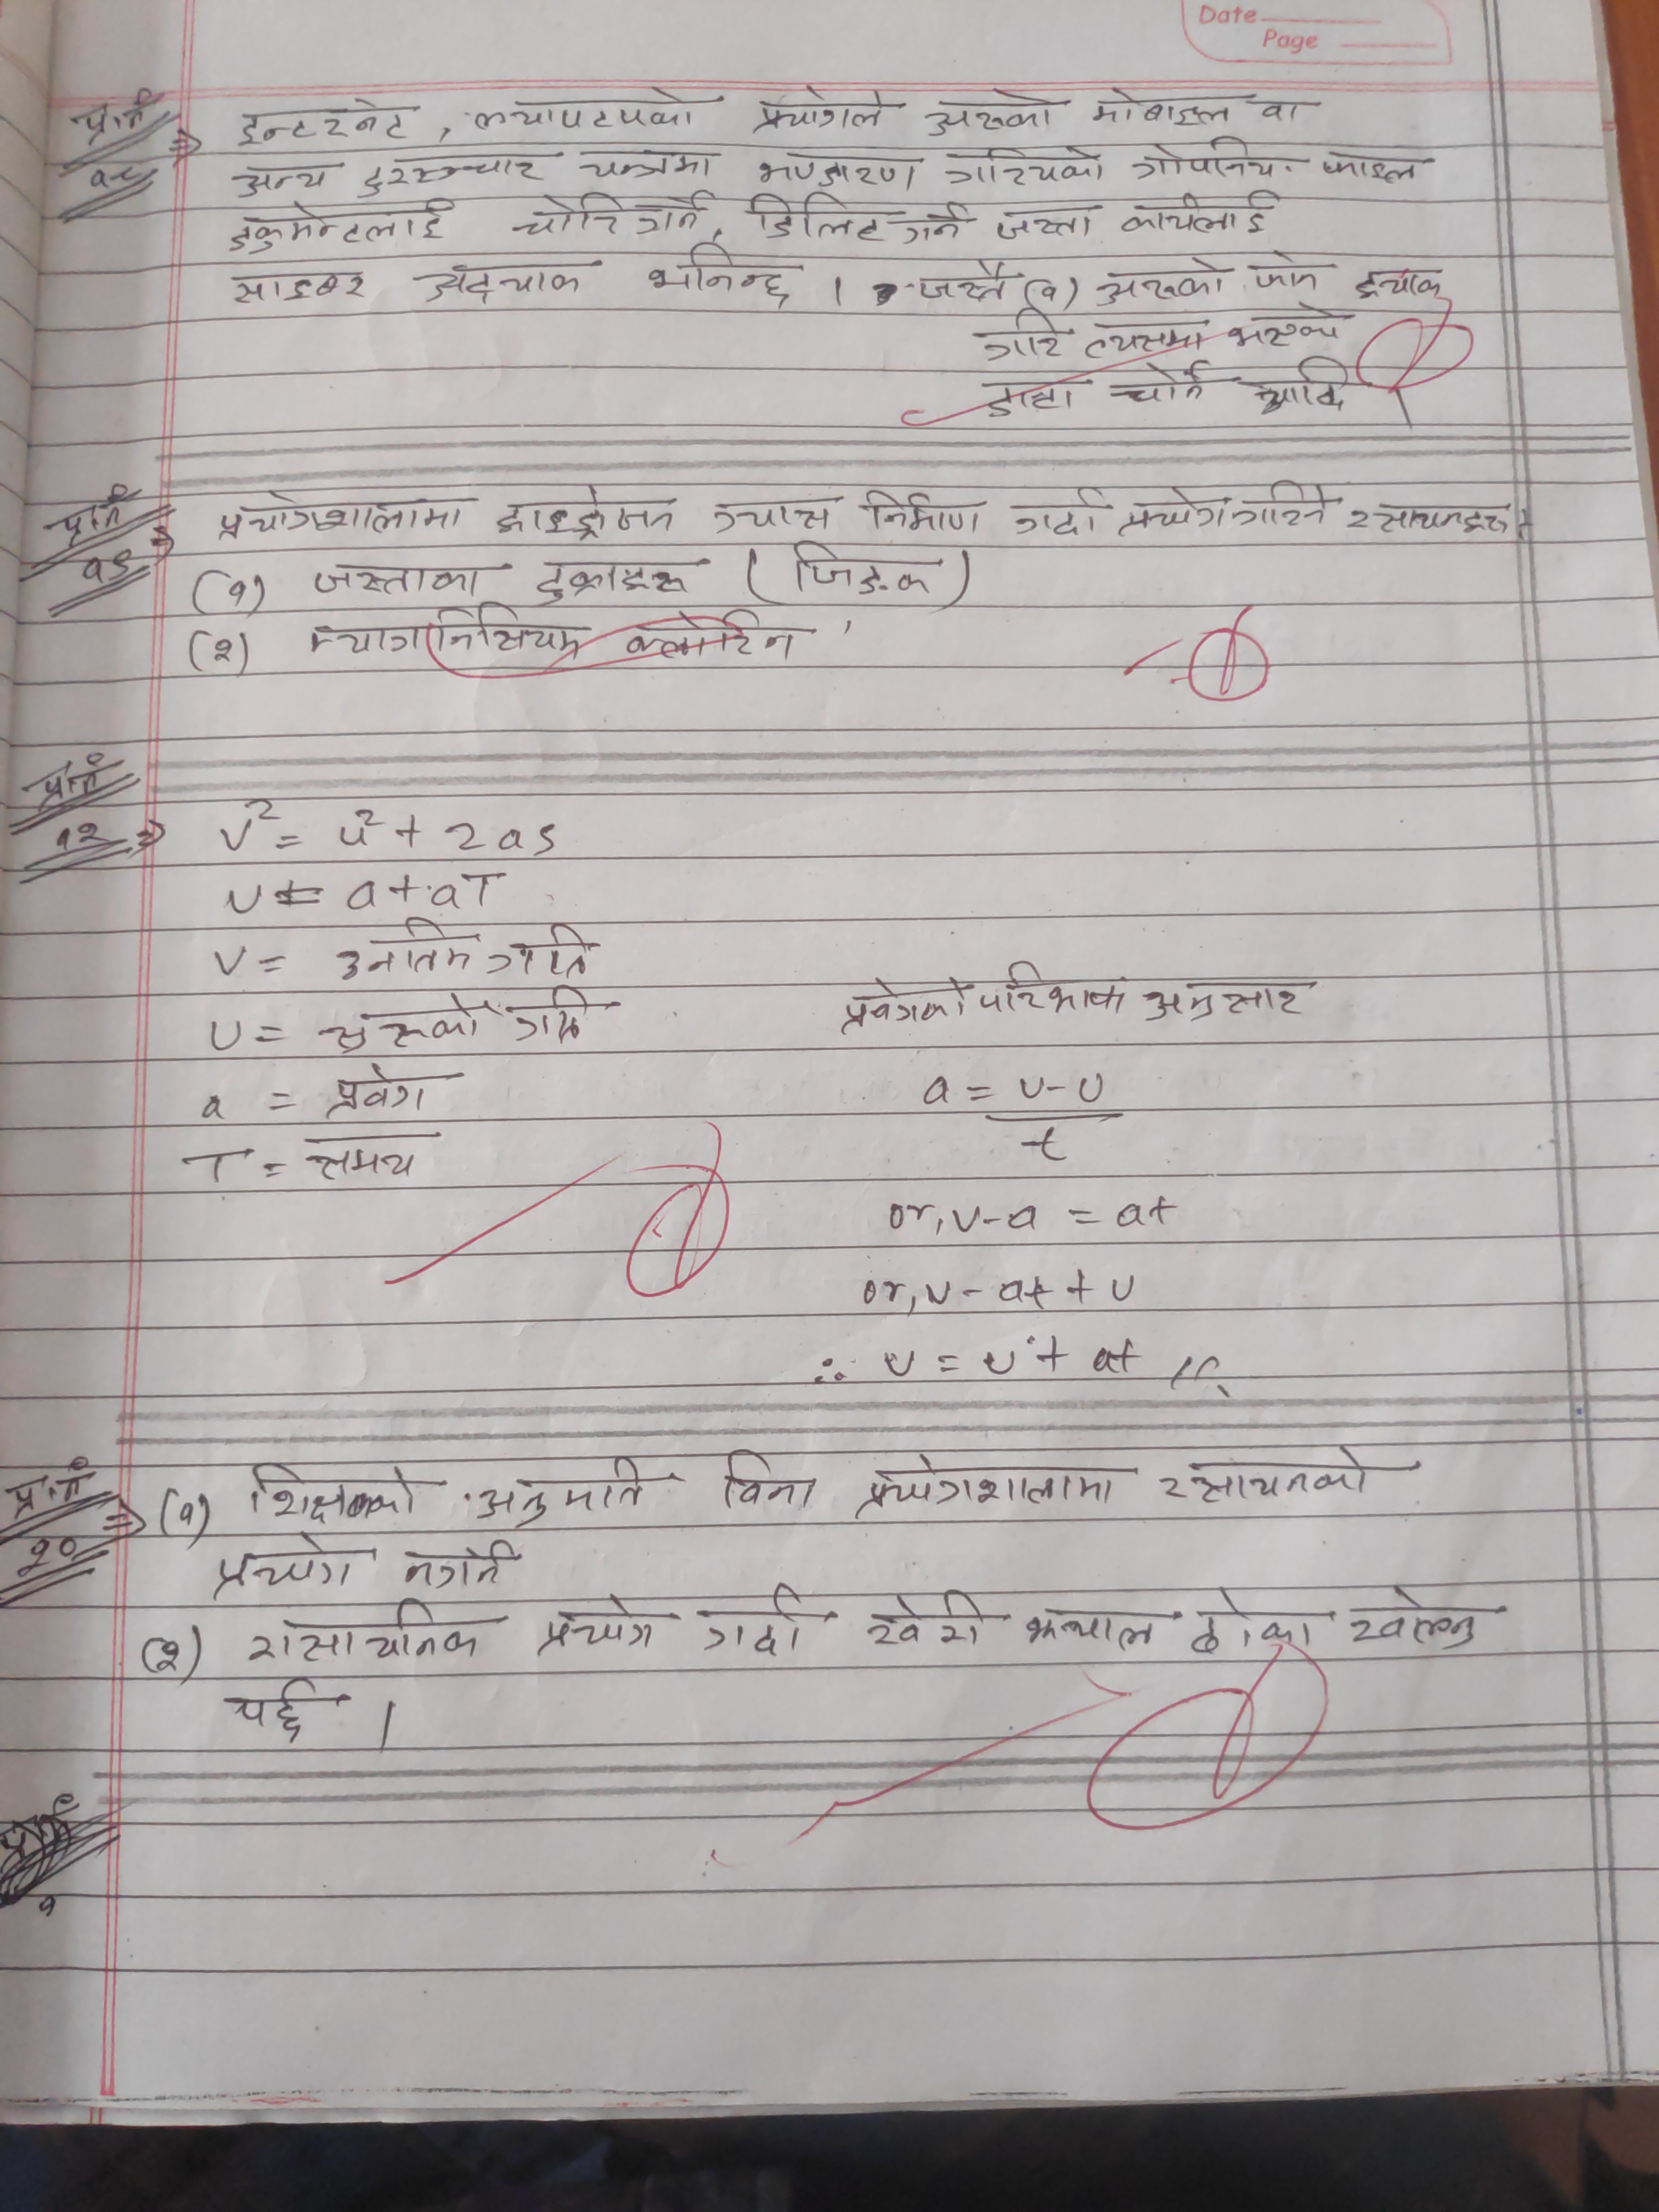text: (845, 1453, 1124, 1517), (237, 1599, 484, 1669), (305, 610, 591, 660), (1157, 1451, 1377, 1515), (237, 1456, 420, 1527), (474, 1458, 657, 1526), (214, 489, 469, 538), (1345, 1581, 1506, 1655), (493, 484, 685, 542), (227, 204, 451, 253), (465, 89, 716, 132), (647, 242, 803, 312), (213, 1534, 371, 1602), (310, 993, 484, 1052), (418, 249, 587, 310), (338, 914, 477, 986), (784, 540, 936, 604), (692, 1580, 816, 1658), (511, 192, 709, 240), (1187, 1587, 1316, 1662), (298, 557, 495, 606), (1143, 975, 1323, 1026), (978, 961, 1133, 1019), (533, 554, 702, 606), (859, 1587, 992, 1653), (1117, 190, 1284, 242), (624, 613, 802, 662), (237, 99, 420, 146), (357, 152, 554, 195), (535, 1594, 666, 1656), (755, 145, 920, 193), (1093, 254, 1232, 312), (836, 975, 974, 1033), (1127, 134, 1295, 181), (746, 190, 887, 246), (748, 82, 894, 134), (1222, 296, 1345, 357), (941, 141, 1114, 185), (1091, 82, 1239, 132), (300, 1130, 436, 1184), (854, 484, 988, 538), (322, 1061, 457, 1115), (1351, 496, 1513, 540), (1244, 352, 1354, 415), (220, 1677, 331, 1738), (1021, 1608, 1169, 1653), (713, 1449, 816, 1514), (401, 1538, 519, 1594), (479, 925, 601, 979), (924, 91, 1061, 138), (1079, 314, 1213, 359), (223, 265, 366, 307), (706, 493, 838, 536), (1117, 482, 1234, 531), (1236, 474, 1335, 529), (17, 754, 119, 808), (512, 988, 603, 1047), (974, 305, 1070, 361), (579, 146, 721, 183), (1006, 489, 1105, 542), (5, 1460, 101, 1512), (1110, 361, 1216, 408), (990, 200, 1098, 246), (45, 500, 138, 550), (1314, 150, 1429, 190), (232, 160, 338, 202), (918, 258, 1016, 303), (981, 381, 1079, 423), (71, 91, 152, 141), (1352, 265, 1452, 301), (1248, 247, 1328, 293), (897, 202, 974, 249), (51, 819, 124, 866), (14, 1538, 84, 1581), (77, 550, 138, 589), (1253, 92, 1317, 127), (150, 1634, 185, 1689), (87, 164, 146, 193), (171, 1498, 202, 1534), (223, 578, 260, 610), (213, 634, 237, 674)
